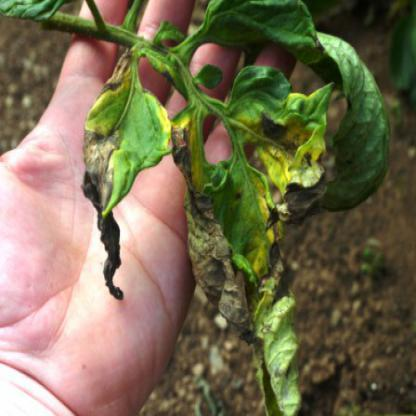Potato leaf late blight: (186, 154, 310, 412), (72, 38, 178, 307), (232, 62, 330, 202)
